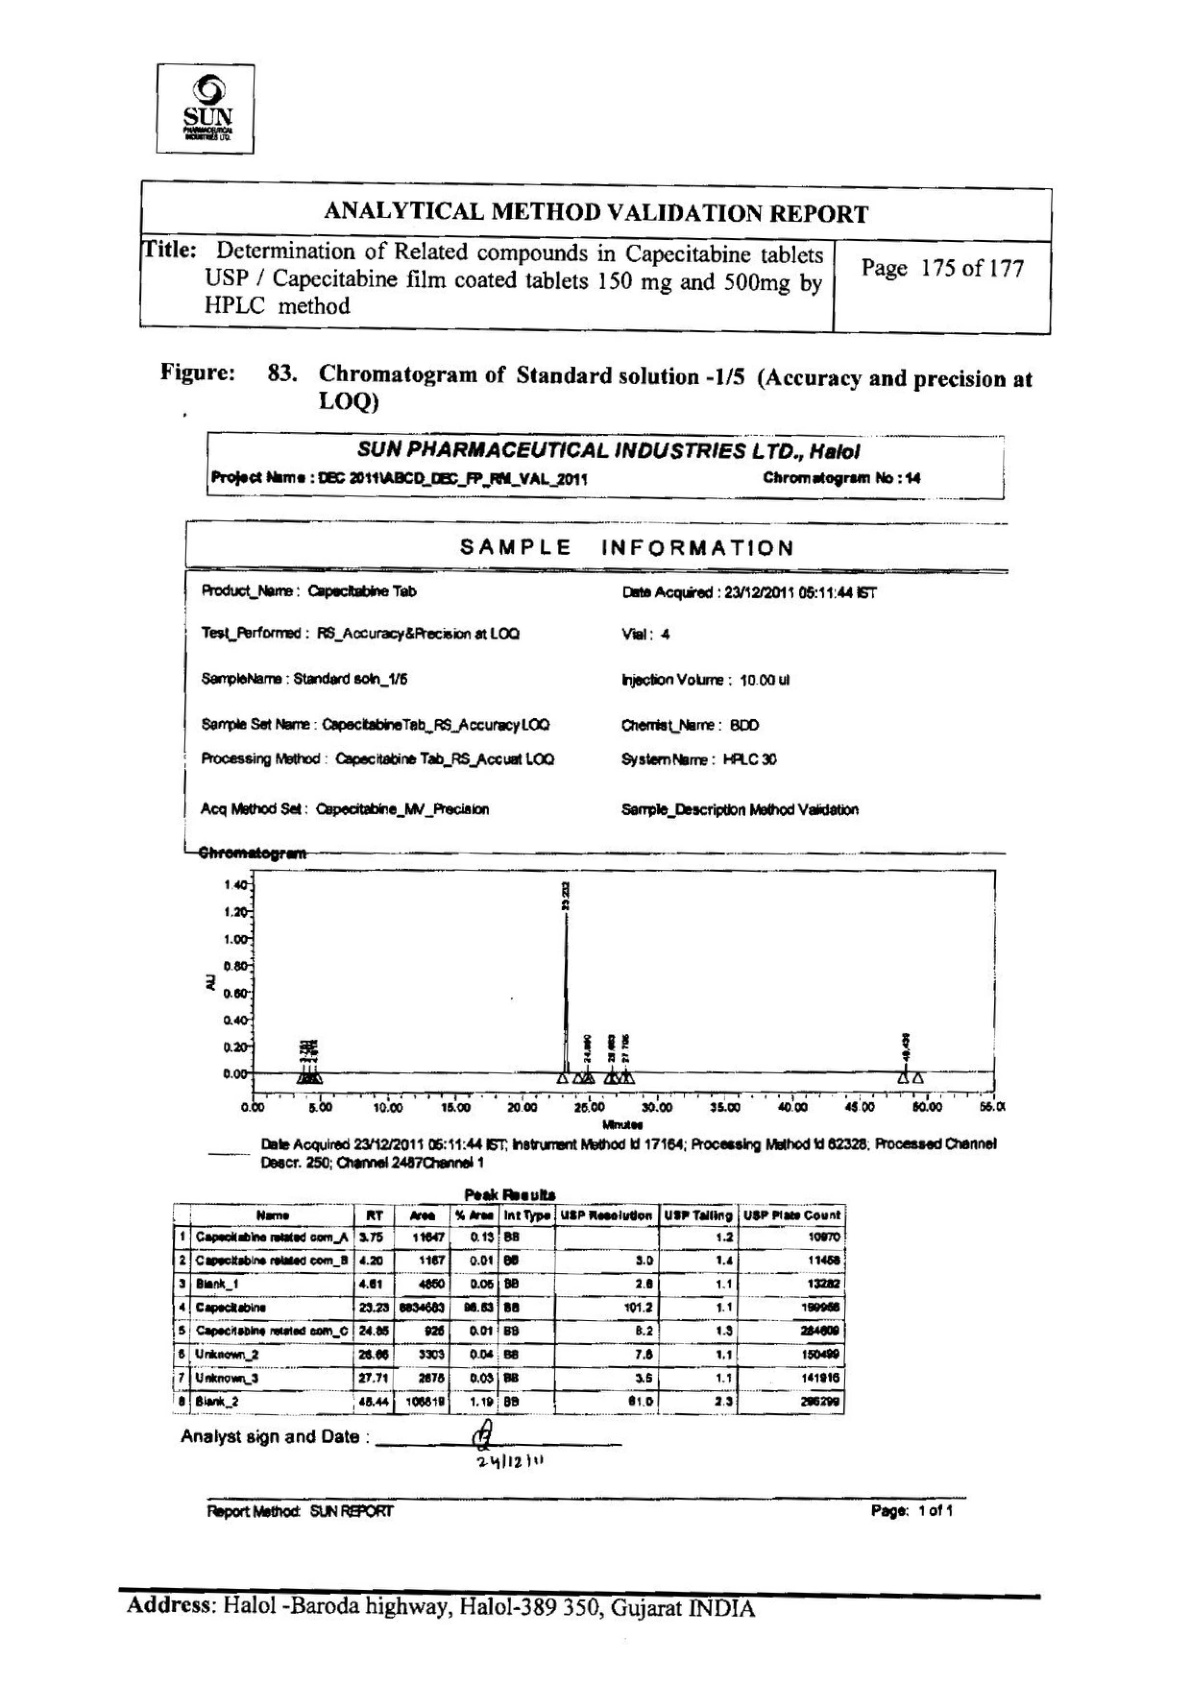full_lined: (171, 1202, 847, 1418)
merged_cells: (139, 179, 1054, 336)
partial_lined_merged_cells: (182, 515, 1011, 857)
